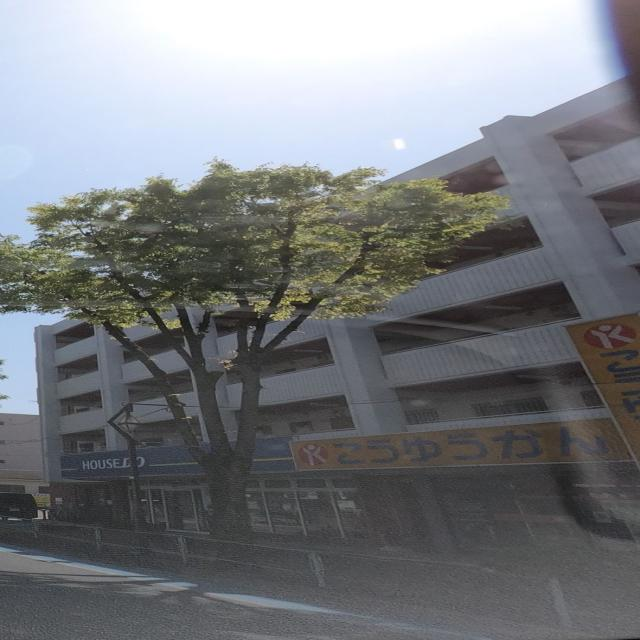zelkova: (0, 154, 526, 563)
